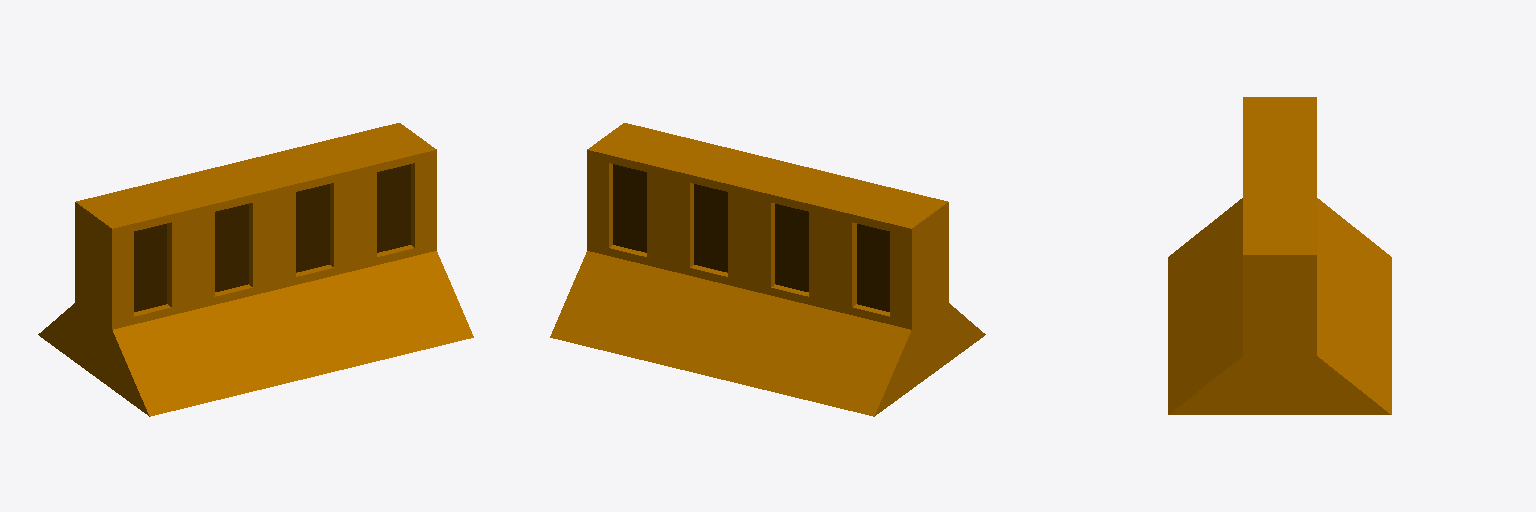
The model's file is TrafficBarrier_02.obj.
The picture shows the model from 3 angles: view 1: azimuth 30°, elevation 25°; view 2: azimuth 150°, elevation 25°; view 3: azimuth 270°, elevation 25°; orthographic projection.
Parts seen in each view (by area): view 1: TrafficBarrier_02_Cube.022; view 2: TrafficBarrier_02_Cube.022; view 3: TrafficBarrier_02_Cube.022.
Boxes of the visible parts, box(x1,y1,x2,y2) form: TrafficBarrier_02_Cube.022: box(38, 123, 473, 416); TrafficBarrier_02_Cube.022: box(550, 123, 985, 416); TrafficBarrier_02_Cube.022: box(1168, 97, 1391, 414).
Bounding box in the file's own units: 15.42 × 7.29 × 9.21.